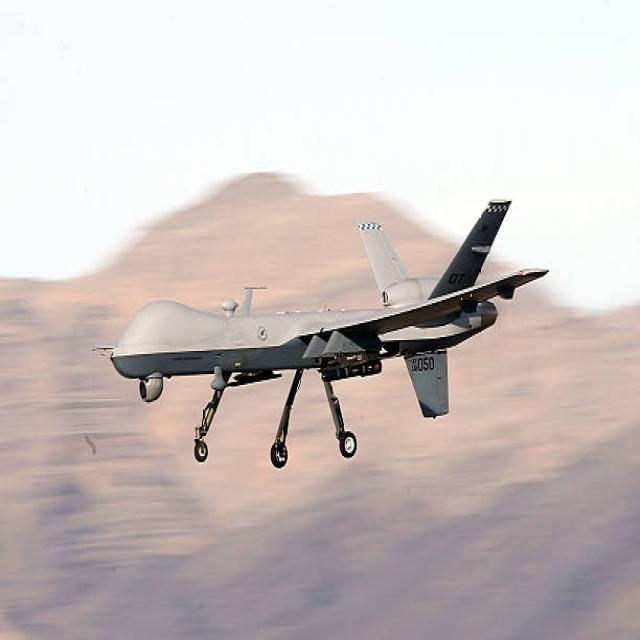iha: (94, 202, 546, 464)
